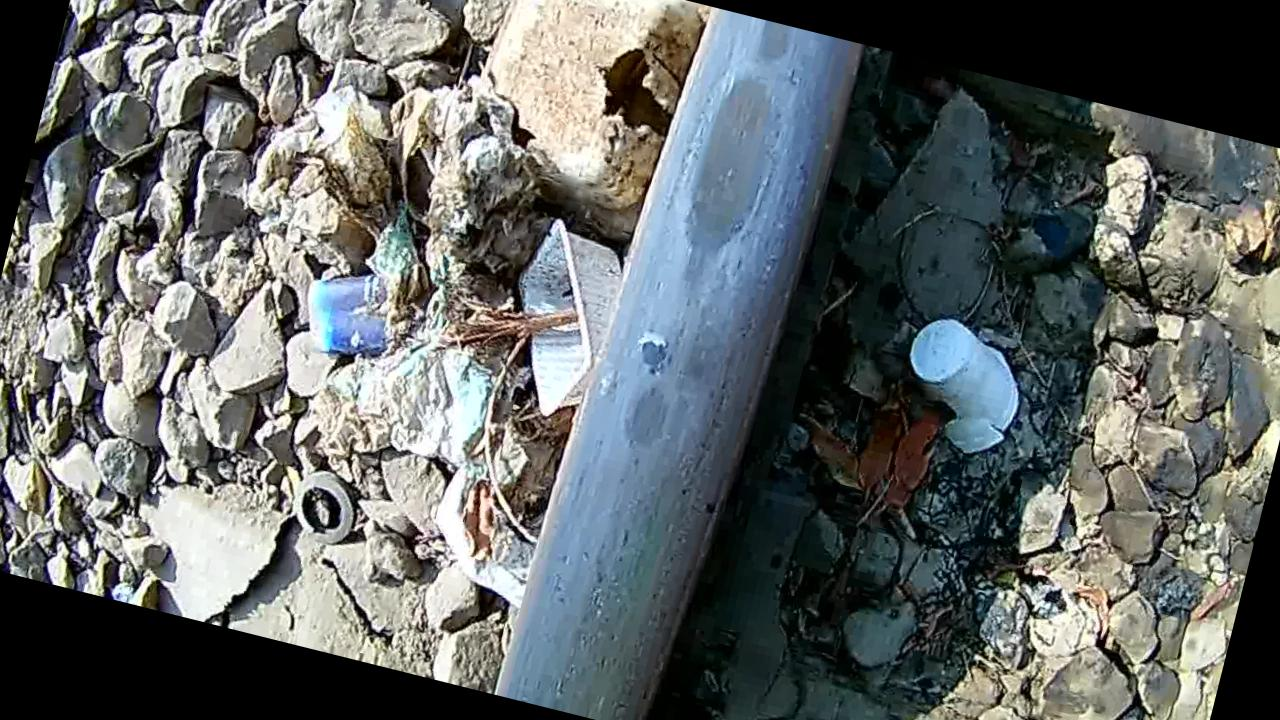bolt_missing: (593, 5, 856, 496)
